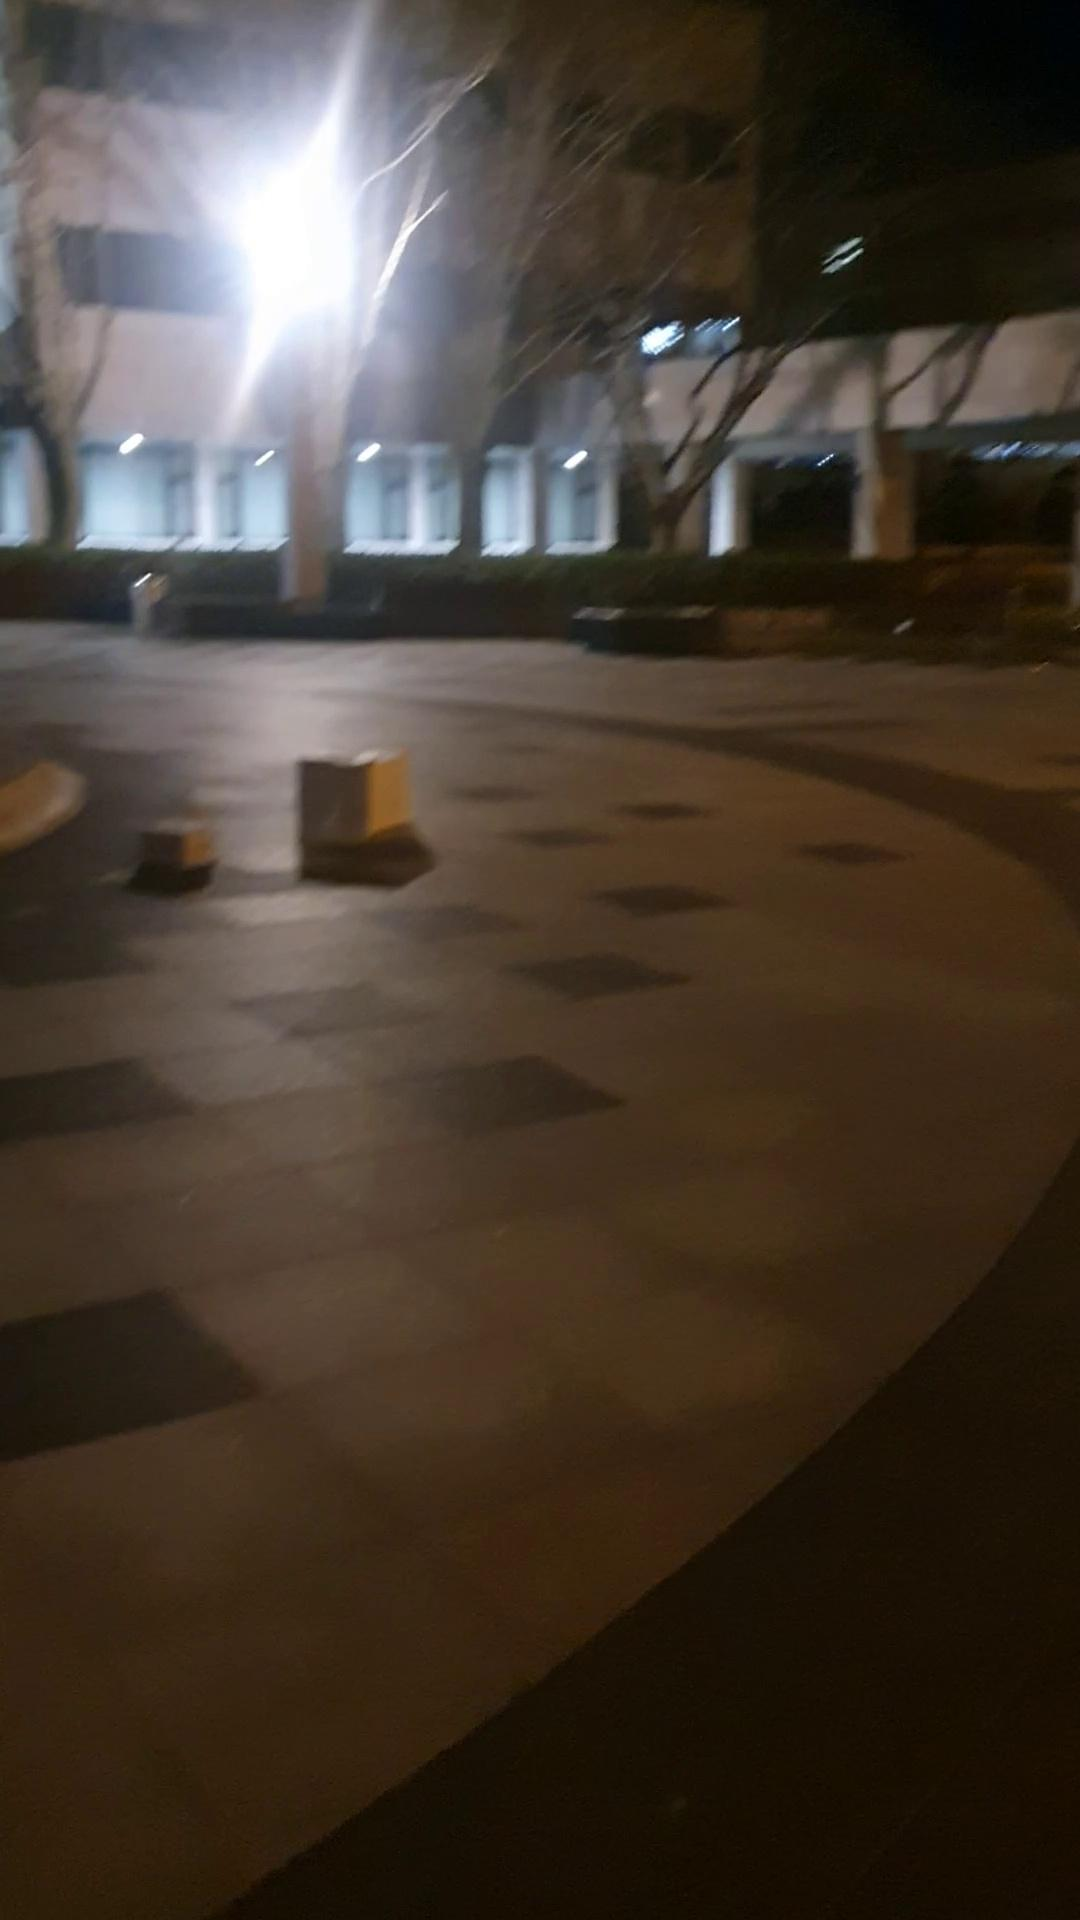Box: (291, 742, 423, 851), (133, 810, 222, 877)
